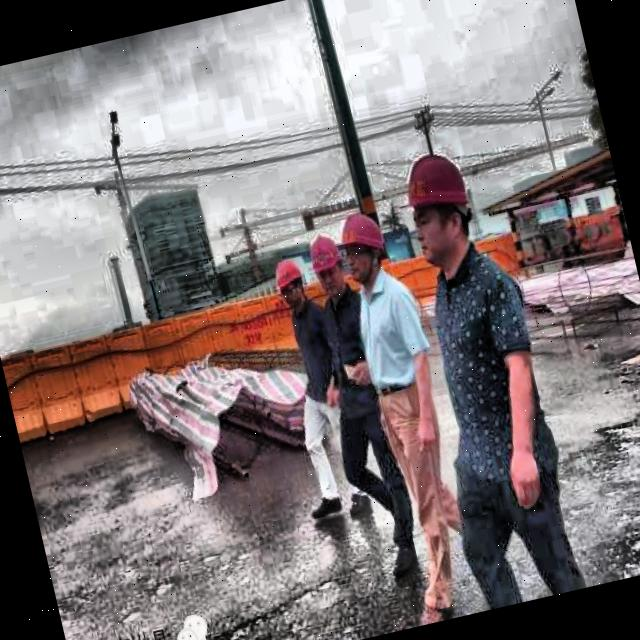helmet: (392, 142, 486, 275), (328, 206, 389, 286), (271, 250, 316, 318), (304, 228, 348, 295)
